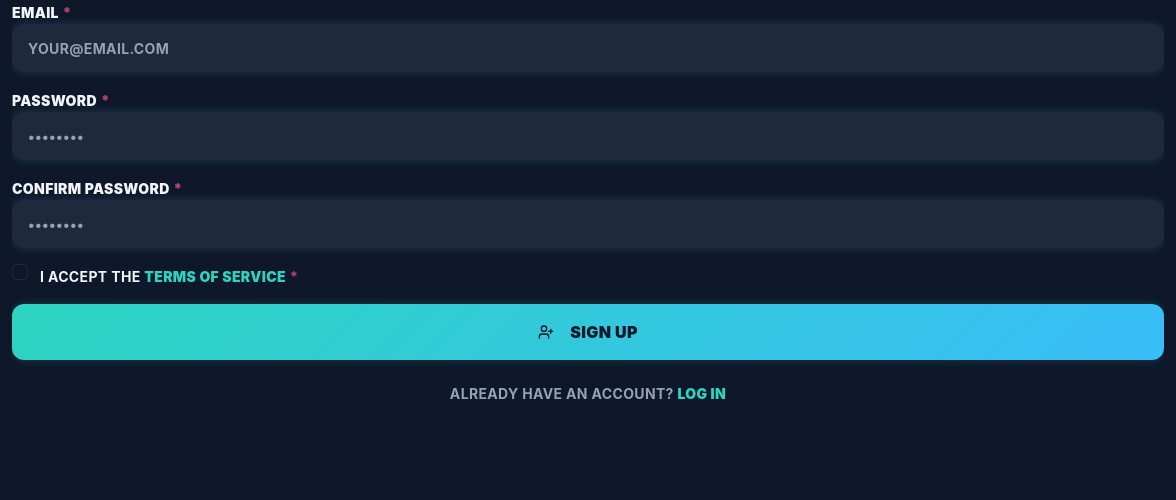
Scenario: AuthFormRegister › should validate all fields simultaneously
Click the button "Sign Up" at (588, 332), box [12,304,1164,360]
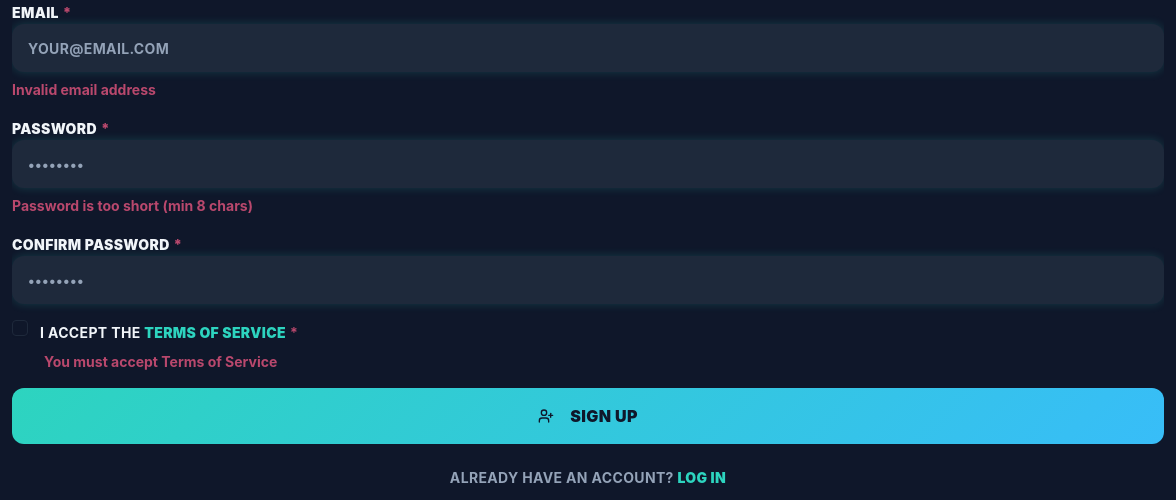
expect the text "Invalid email address" is shown: met, box [12,81,156,98]
expect the text "Password is too short (min 8 chars)" is shown: met, box [12,197,253,214]
expect the text "You must accept Terms of Service" is shown: met, box [44,353,277,370]
